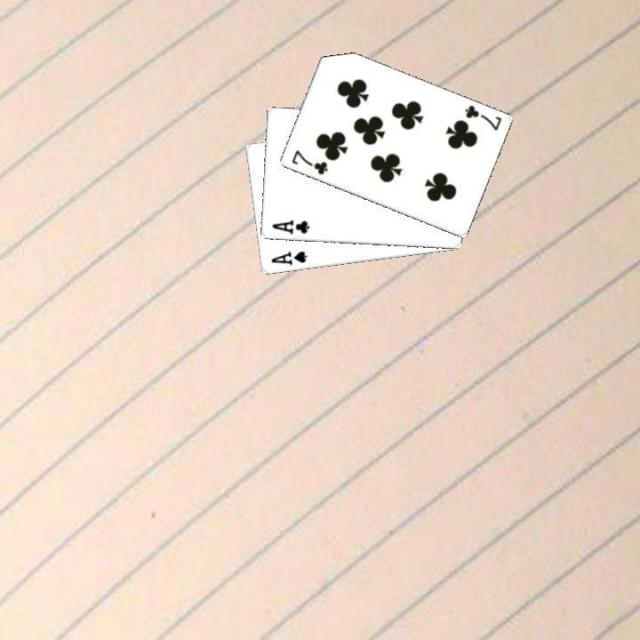7C: (287, 146, 330, 177), (461, 101, 503, 132)
AC: (269, 216, 311, 236)
AS: (266, 247, 308, 268)
